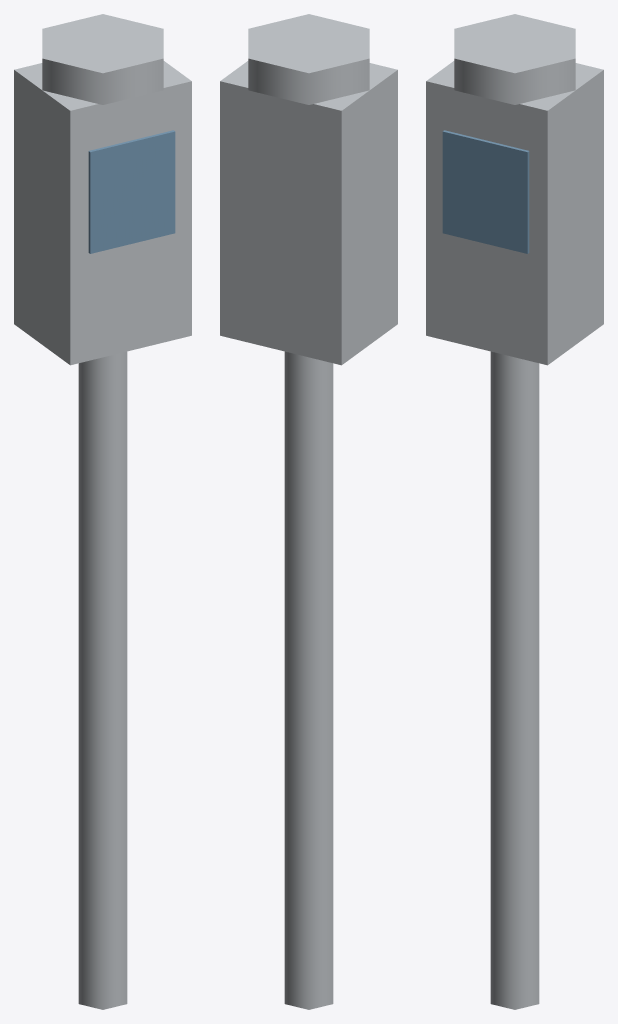
The model's file is parking_meter.glb.
The picture shows the model from 3 angles, left to right: view 1: azimuth 30°, elevation 25°; view 2: azimuth 150°, elevation 25°; view 3: azimuth 330°, elevation 25°; orthographic projection.
Visible parts, largest first — view 1: parking_meter; view 2: parking_meter; view 3: parking_meter.
Boxes of the visible parts, x1,y1,x2,y2 form: parking_meter: (14,14,191,1009); parking_meter: (220,14,397,1009); parking_meter: (426,14,603,1009).
Bounding box in the file's own units: 0.2 × 1.5 × 0.1732.
